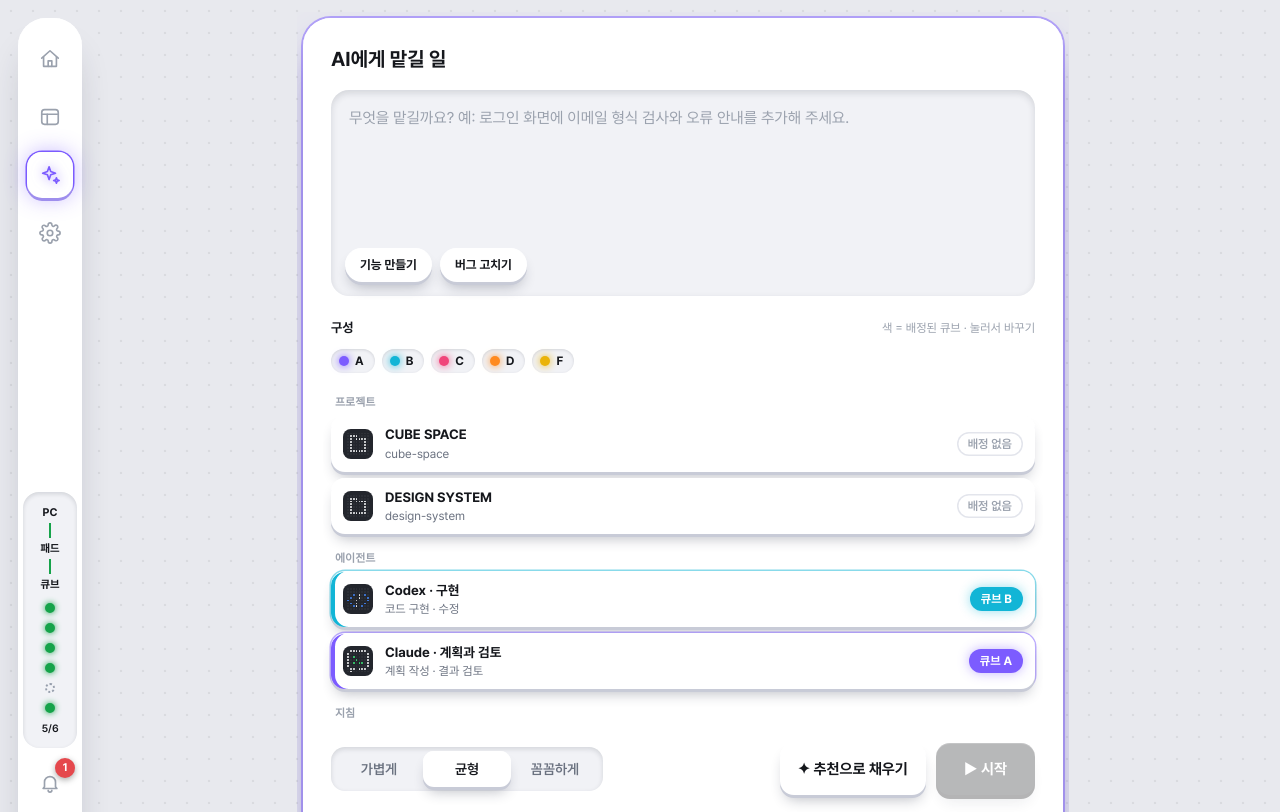
Test: AI: 예시를 넣으면 시작할 수 있고, 시작하면 진행 카드가 뜬다
This screenshot has width=1280, height=812.
Expected: the button "▶ 시작" is disabled, top-left (936, 744), bottom-right (1035, 796)
Click the button "버그 고치기".
click(483, 265)  # box top-left (440, 248), bottom-right (527, 282)
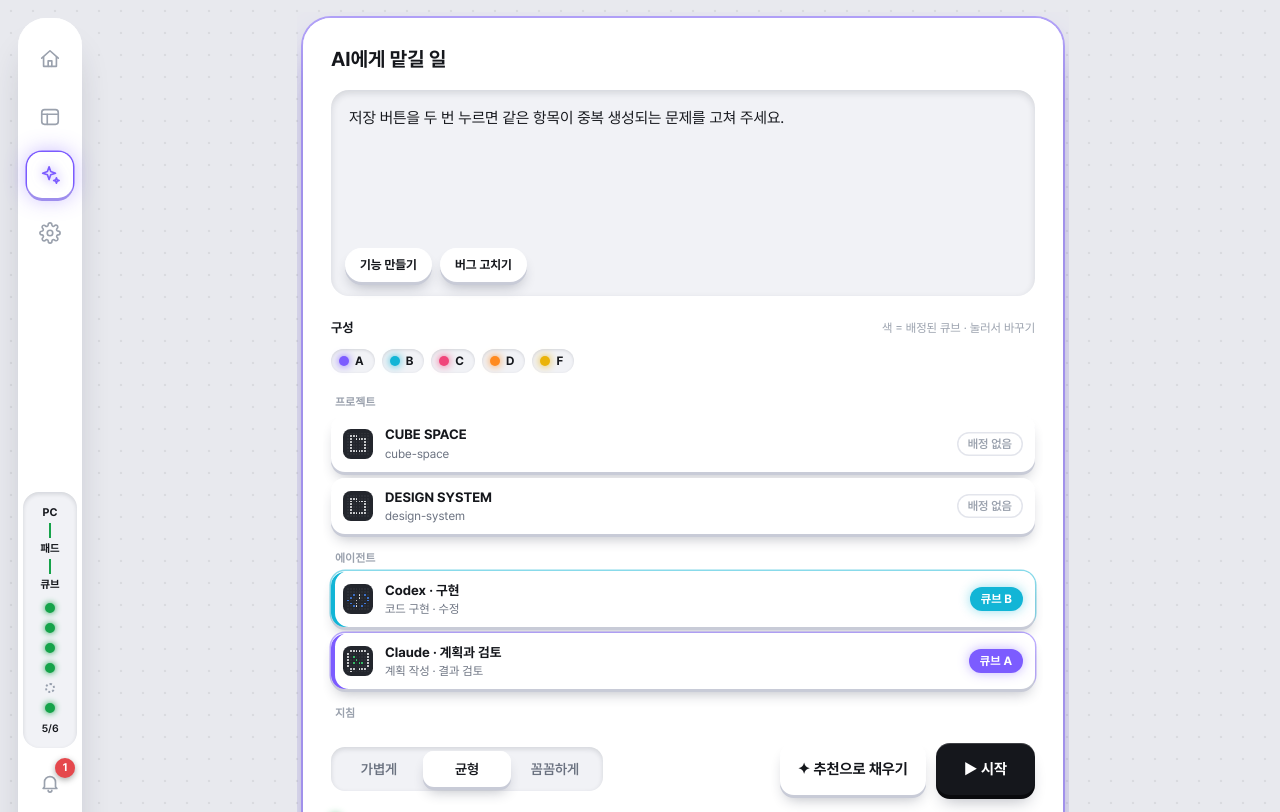
Now the button "▶ 시작" is enabled
Click the button "▶ 시작".
click(985, 770)  # box top-left (936, 744), bottom-right (1035, 796)
(page scrolled)
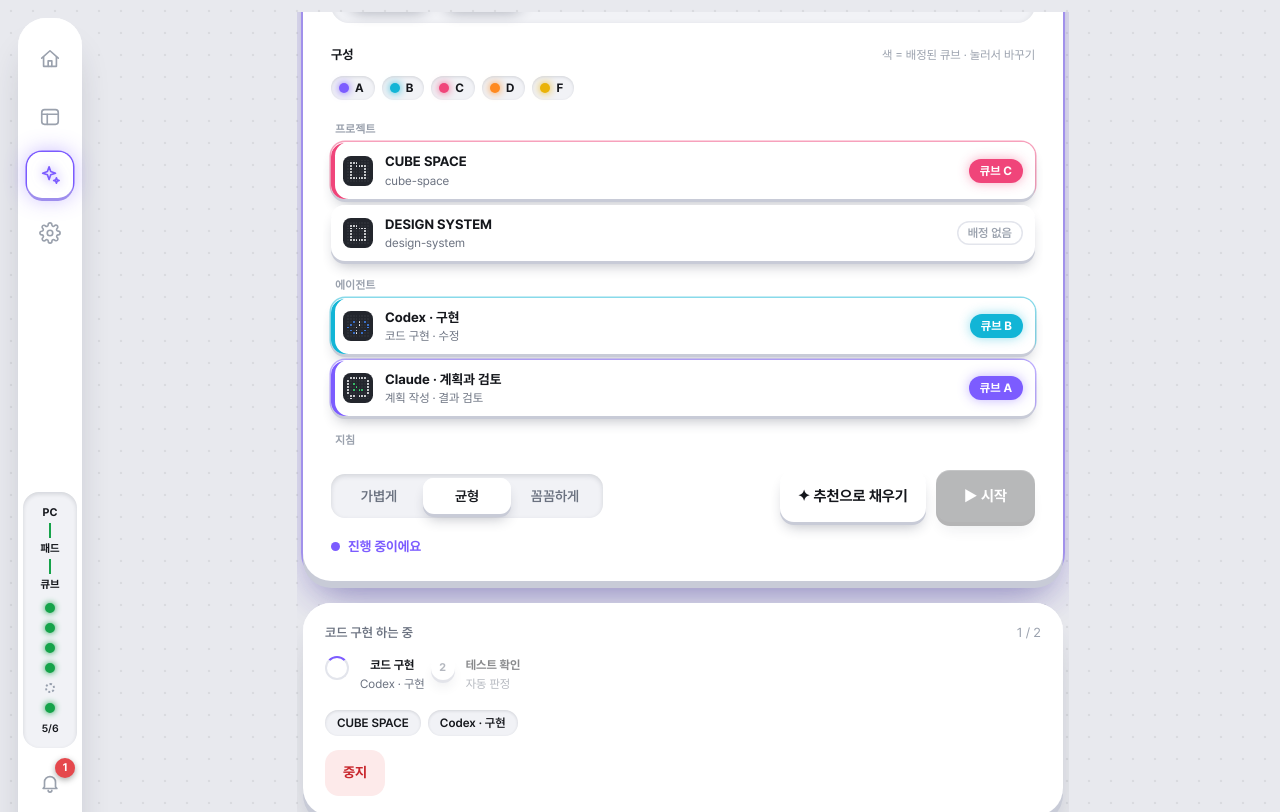
Now the button "중지" is shown, box top-left (325, 750), bottom-right (385, 796)
